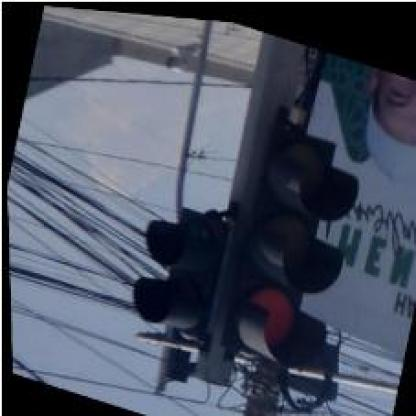red: (213, 112, 370, 376)
